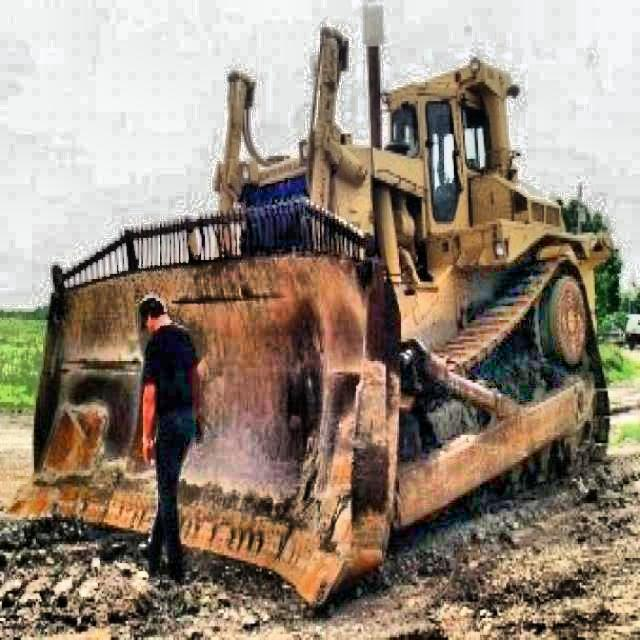bull_dozer/loader/grader: (4, 7, 616, 613)
person: (136, 296, 206, 588)
